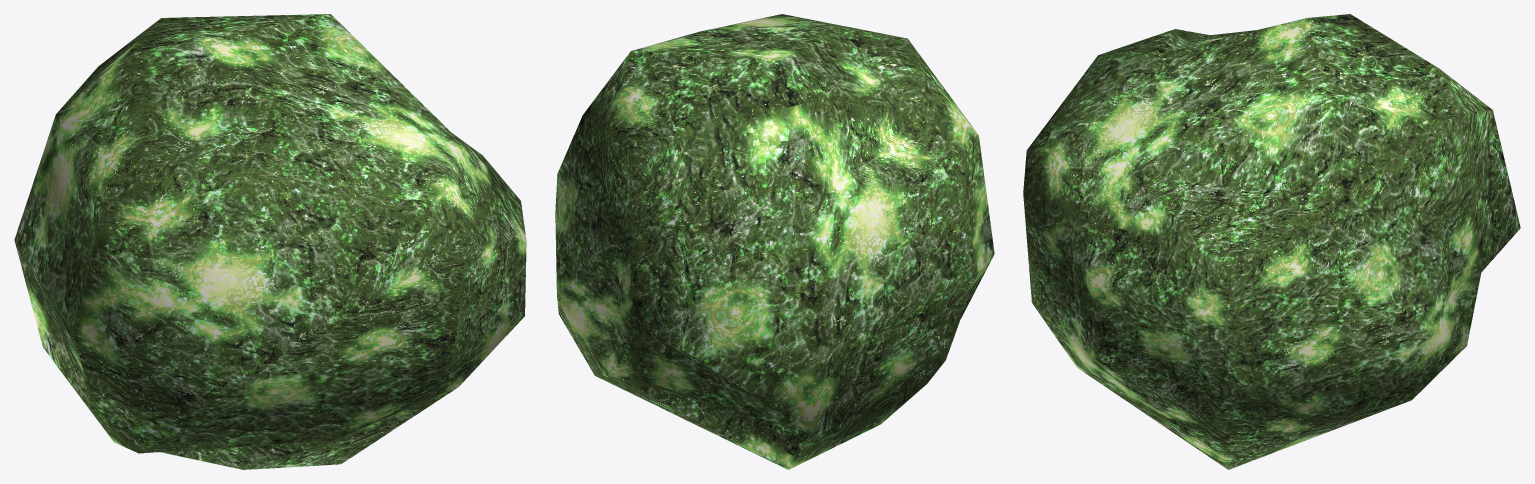
Rendered from asteroid_acid_radial_s01_l1.fbx.
3 renders of one model, left to right at view 1: azimuth 30°, elevation 25°; view 2: azimuth 150°, elevation 25°; view 3: azimuth 270°, elevation 25°, orthographic. The views are drawn at different scales.
Parts seen in each view (by area): view 1: mesh_node; view 2: mesh_node; view 3: mesh_node.
Part boxes in pixels (x1,y1,x2,y2): mesh_node: (14,14,526,469); mesh_node: (555,14,994,469); mesh_node: (1023,14,1520,469).
Size of the model in its own units: 5.25 by 4.88 by 5.47.
